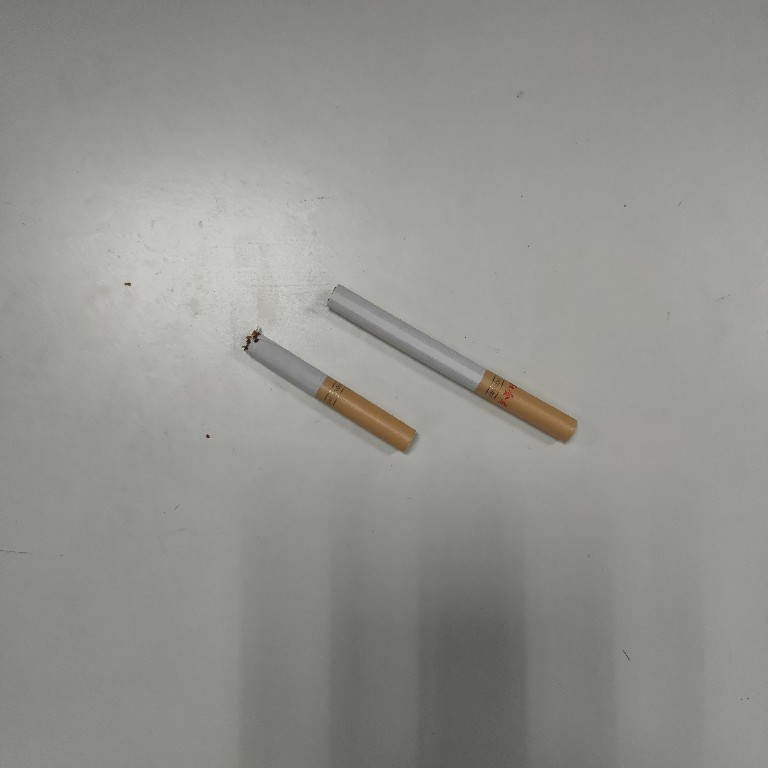cigarette: (324, 282, 581, 447), (240, 324, 423, 456)
